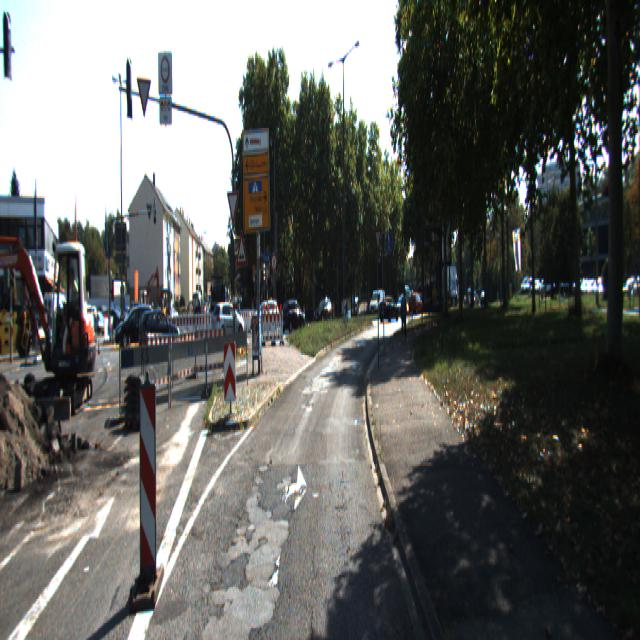Car: (0, 232, 100, 430), (212, 302, 245, 343), (280, 300, 306, 334)
